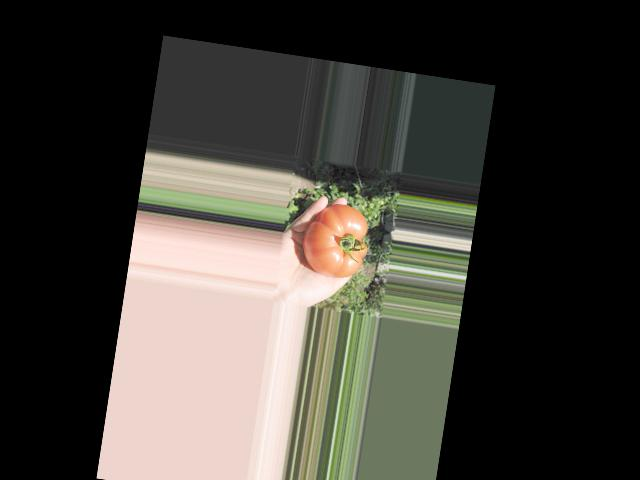tomato: (299, 199, 373, 281)
